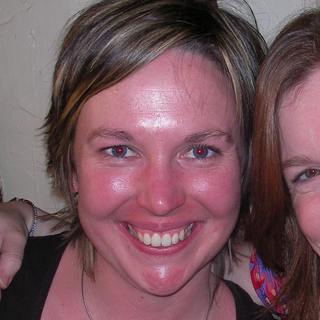eye: (96, 140, 143, 164), (179, 140, 224, 164), (282, 163, 320, 187)
